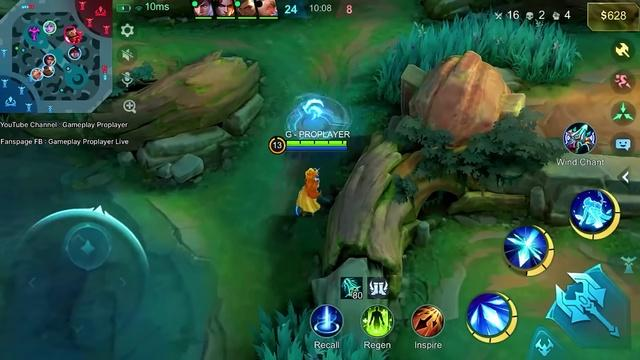Adc_Aliado: (41, 20, 59, 35)
Adc_Enemigo: (63, 26, 79, 39)
Arbusto: (367, 12, 576, 103), (254, 301, 389, 358)
Exp_Aliado: (28, 67, 44, 82)
HP_Heroe_Principal: (284, 141, 346, 146)
Hechizo_Batalla: (411, 304, 443, 337)
Jungla_Aliado: (41, 65, 57, 79)
Jungla_Enemigo: (70, 31, 83, 43)
Lord_Mapa: (26, 24, 42, 43)
Mana: (285, 147, 346, 151)
Mid_Aliado: (69, 48, 81, 60)
Minimapa: (0, 0, 114, 114)
Miya: (295, 169, 320, 216)
Roamer_Aliado: (42, 53, 57, 66)
Skill1: (467, 294, 516, 343)
Skill2: (506, 226, 556, 275)
Skill3: (570, 189, 620, 238)
